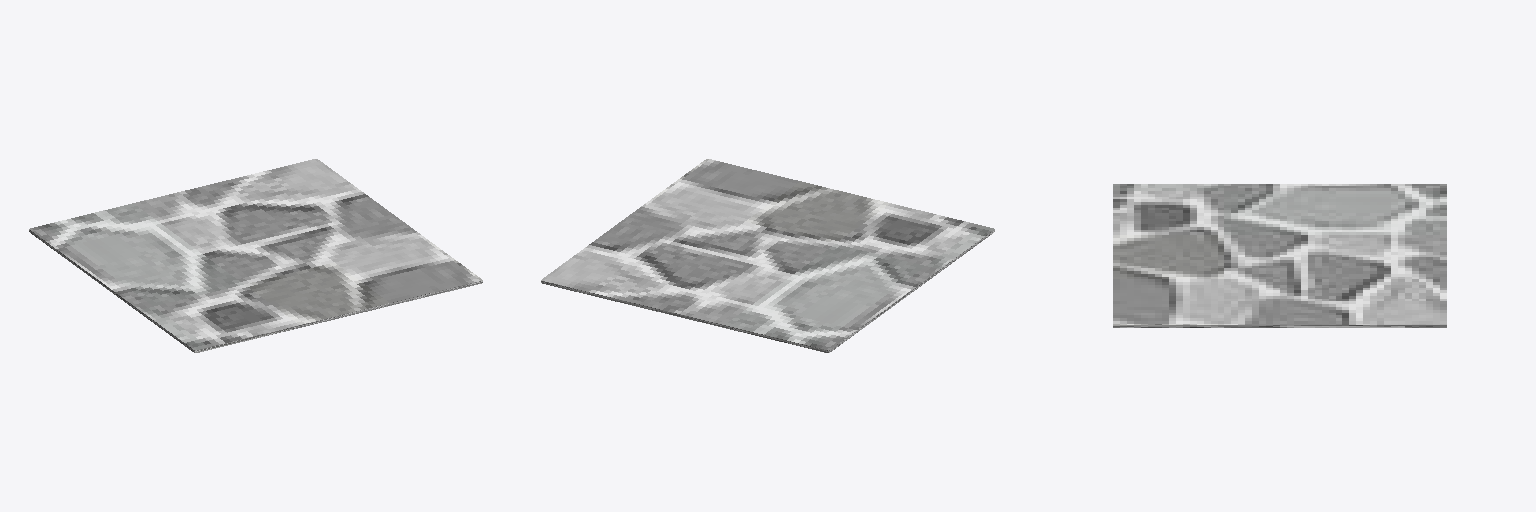
3 renders of one model, left to right at view 1: azimuth 30°, elevation 25°; view 2: azimuth 150°, elevation 25°; view 3: azimuth 270°, elevation 25°, orthographic.
Visible parts, largest first — view 1: 立方体; view 2: 立方体; view 3: 立方体.
Part boxes in pixels (bbox=[...]): 立方体: bbox=[29, 159, 482, 352]; 立方体: bbox=[541, 159, 994, 352]; 立方体: bbox=[1113, 184, 1446, 327].
Bounding box in the file's own units: 20.03 × 0.192 × 20.03.
1 materials, 1 textured.